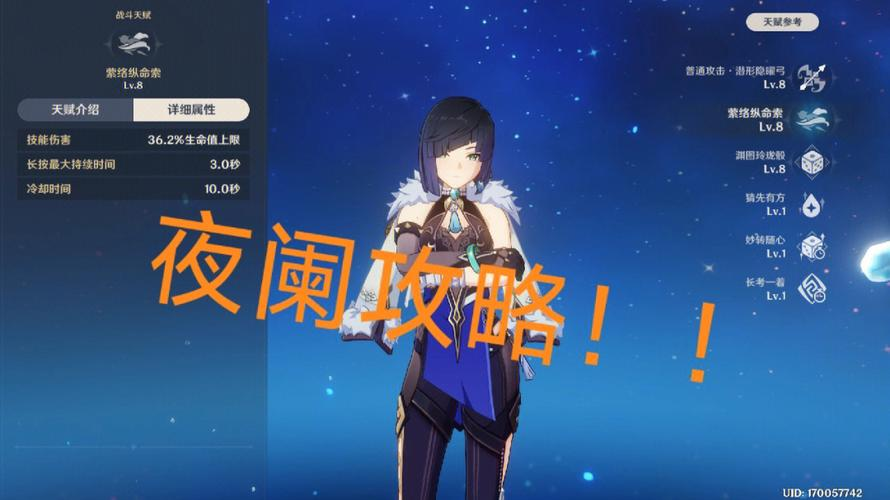夜兰: (376, 87, 536, 500)
